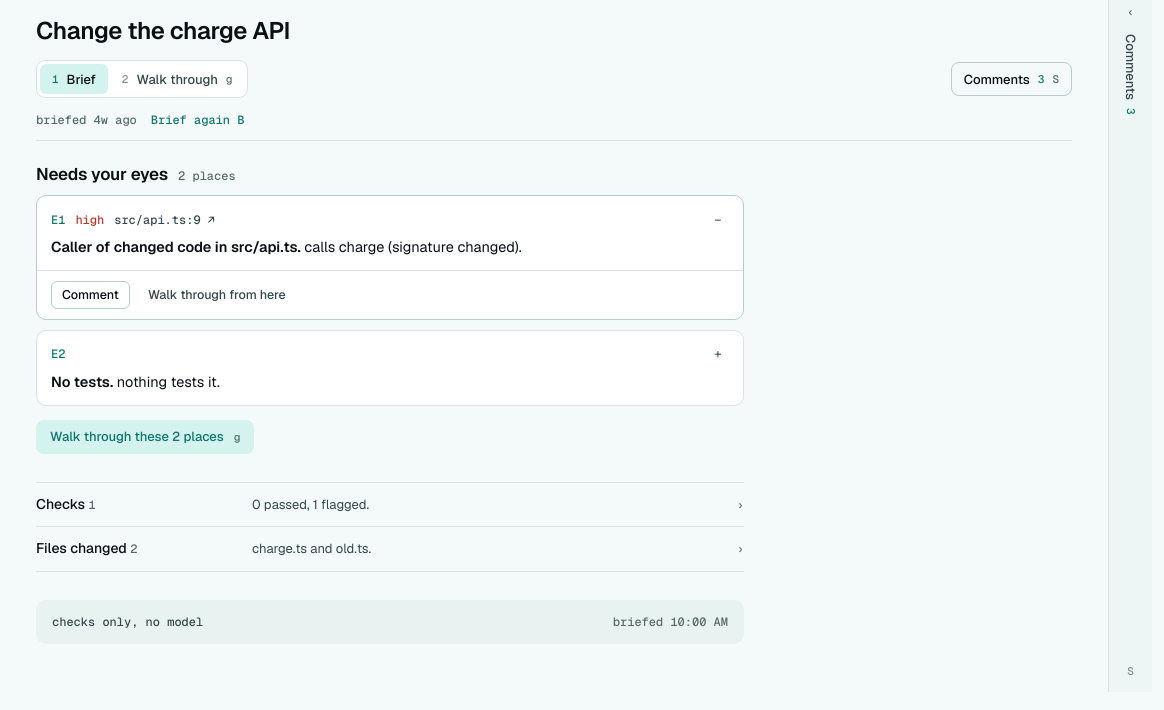
Test case: the Comments drawer › groups drafts by where they post, with the count on the toggle
The width and height of the screenshot is (1164, 710).
Click the button "Comments 3 S". click: (1011, 79)
box: [951, 62, 1072, 96]
(page scrolled)
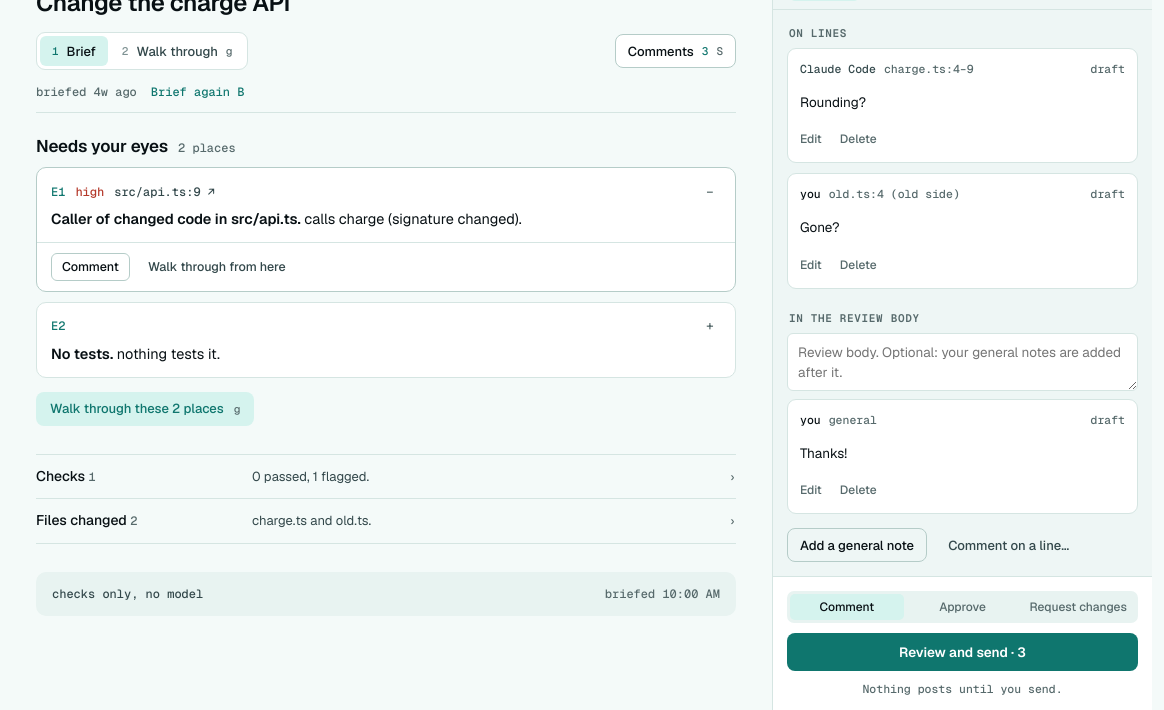
Result: the text with class "draft-where" reads "general" at [829, 412, 877, 427]
Result: the text "Thanks!" is shown at [800, 444, 847, 462]
Result: the button "Review and send · 3" is shown at [787, 633, 1138, 671]
